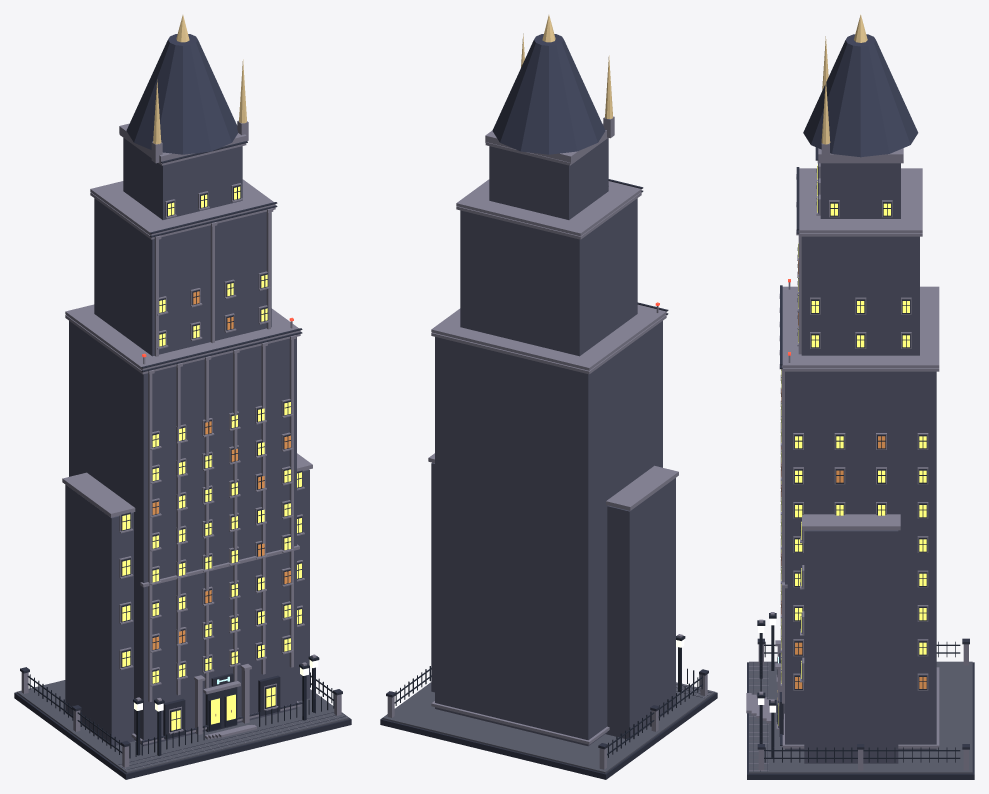
File: account_building_09.glb
3 renders of one model, left to right at view 1: azimuth 30°, elevation 25°; view 2: azimuth 150°, elevation 25°; view 3: azimuth 270°, elevation 25°, orthographic.
Parts seen in each view (by area): view 1: SM_Account_Building_09; view 2: SM_Account_Building_09; view 3: SM_Account_Building_09.
Boxes of the visible parts, x1,y1,x2,y2 form: SM_Account_Building_09: (14, 15, 351, 779); SM_Account_Building_09: (380, 15, 717, 779); SM_Account_Building_09: (746, 14, 974, 779).
Bounding box in the file's own units: 14 × 41.32 × 12.03.
